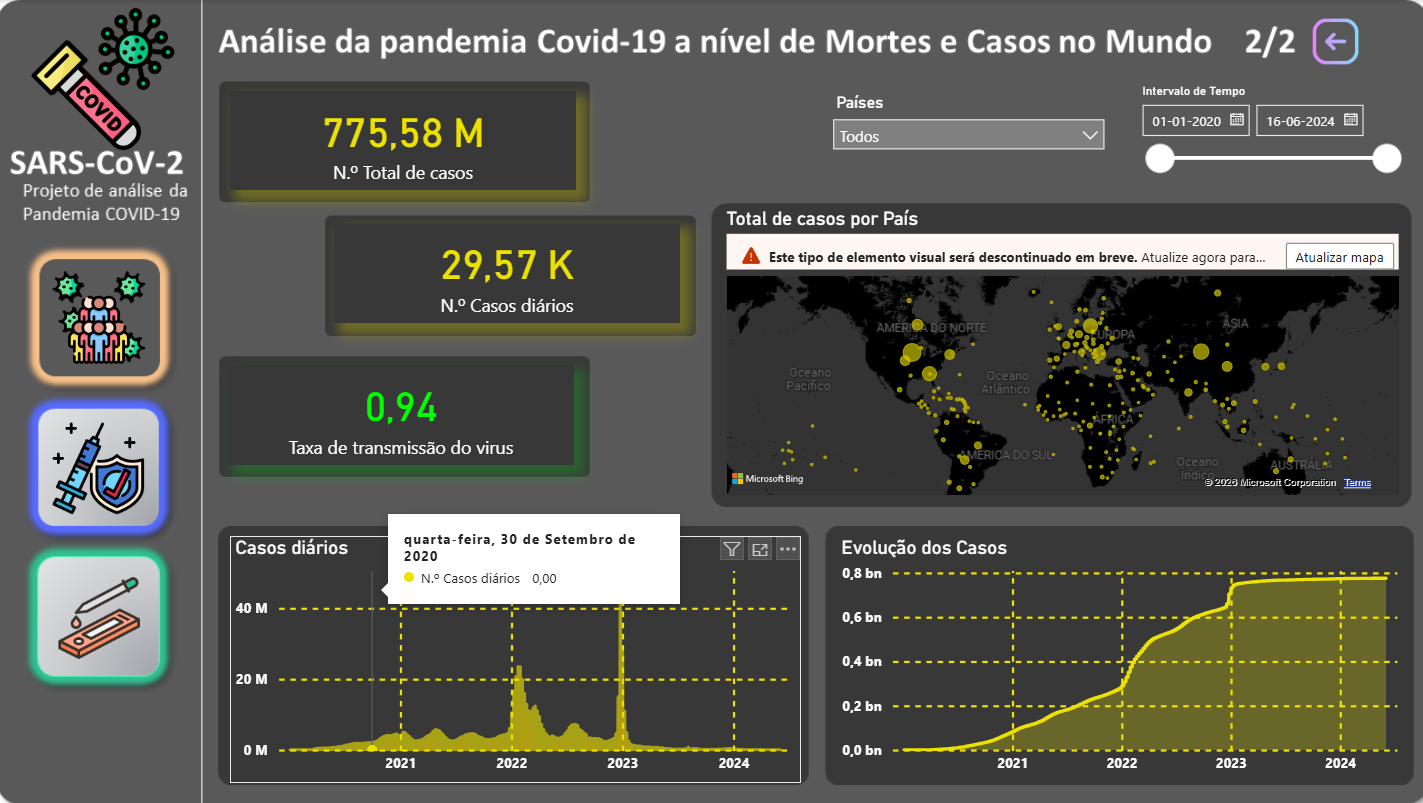

This screenshot's page, from the dashboard's own definition file:
{"tool":"powerbi","page":{"name":"Pandemia Covid-19   2/2","canvas":[1280,720],"ordinal":2},"visuals":[{"type":"image","box":[45,373.3,91.7,91.7],"z":0},{"type":"image","box":[46.7,510,90,88.3],"z":1000},{"type":"image","box":[1172.9,11.4,52.9,51.4],"z":2000},{"type":"slicer","fields":{"Values":["owid-covid-data.All Countries","Locais.location"]},"box":[738.6,78.6,262.9,74.3],"z":3000},{"type":"slicer","fields":{"Values":["Datas.date"]},"box":[1012.9,70,252.9,91.4],"z":4000},{"type":"card","fields":{"Values":["Medidas utilizadas nas páginas 'Pandemia Covid-19'.N.º Total de casos"]},"box":[209.1,81.8,310,89.1],"z":5000},{"type":"card","fields":{"Values":["Medidas utilizadas nas páginas 'Pandemia Covid-19'.N.º Casos diários"]},"box":[301.7,200,310,90],"z":6000},{"type":"card","fields":{"Values":["Medidas utilizadas nas páginas 'Pandemia Covid-19'.Taxa de transmissao do virus"]},"box":[206.7,326.7,310,90],"z":7000},{"type":"map","title":"Total de casos por País","fields":{"Category":["Locais.location"],"Size":["Medidas utilizadas nas páginas 'Pandemia Covid-19'.N.º Total de casos"]},"box":[648.3,185,611.7,263.3],"z":8000},{"type":"areaChart","title":"Evolução dos Casos","fields":{"Y":["Medidas utilizadas nas páginas 'Pandemia Covid-19'.N.º Total de casos"],"Category":["Datas.date"]},"box":[751.7,480,511.7,221.7],"z":9000},{"type":"areaChart","title":"Casos diários","fields":{"Y":["Medidas utilizadas nas páginas 'Pandemia Covid-19'.N.º Casos diários"],"Category":["Datas.date"]},"box":[208.3,480,511.7,221.7],"z":10000},{"type":"image","box":[10,1.7,170,138.3],"z":11000},{"type":"image","box":[45,233.3,93.3,103.3],"z":12000}]}

Visuals, with their boxes in screenshot pixels (x1, y1, x2, y2), scaled from the page's 1280x720 canvas onto the 1423x803 screenshot:
image: select_region(50, 416, 152, 519)
image: select_region(52, 569, 152, 667)
image: select_region(1304, 13, 1363, 70)
slicer - owid-covid-data.All Countries x Locais.location: select_region(821, 88, 1113, 171)
slicer - Datas.date: select_region(1126, 78, 1407, 180)
card - Medidas utilizadas nas páginas 'Pandemia Covid-19'.N.º Total de casos: select_region(232, 91, 577, 191)
card - Medidas utilizadas nas páginas 'Pandemia Covid-19'.N.º Casos diários: select_region(335, 223, 680, 323)
card - Medidas utilizadas nas páginas 'Pandemia Covid-19'.Taxa de transmissao do virus: select_region(230, 364, 574, 465)
"Total de casos por País" map: select_region(721, 206, 1401, 500)
"Evolução dos Casos" areaChart: select_region(836, 535, 1405, 783)
"Casos diários" areaChart: select_region(232, 535, 800, 783)
image: select_region(11, 2, 200, 156)
image: select_region(50, 260, 154, 375)
